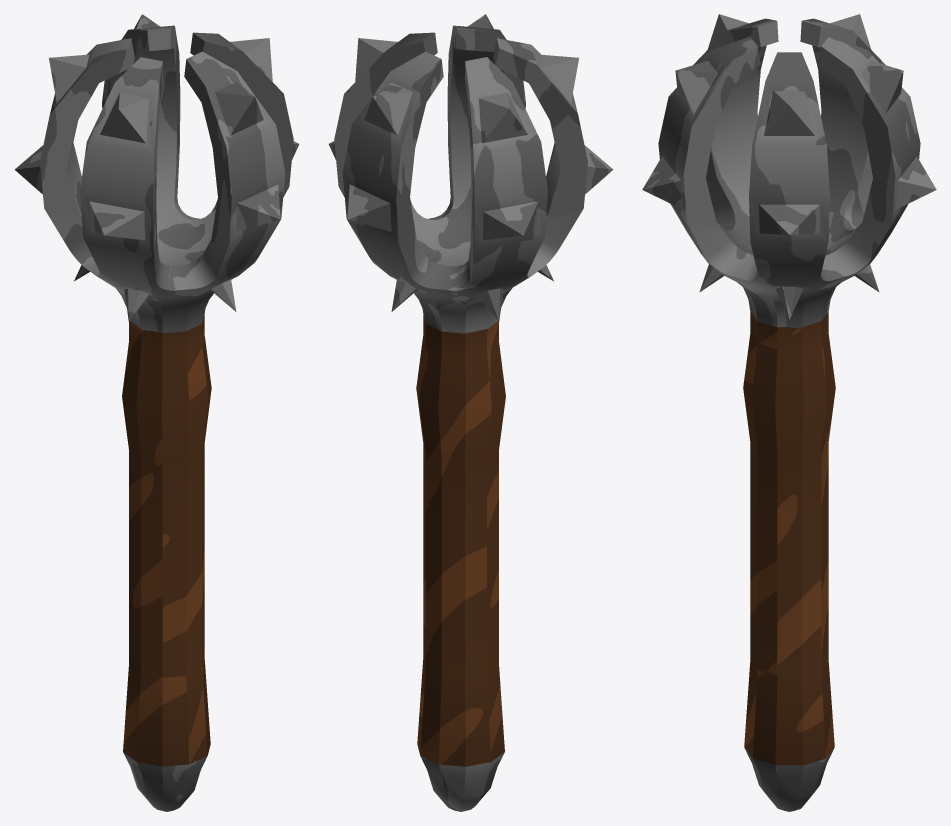
File: torch.fbx
3 renders of one model, left to right at view 1: azimuth 30°, elevation 25°; view 2: azimuth 150°, elevation 25°; view 3: azimuth 270°, elevation 25°, orthographic.
Parts seen in each view (by area): view 1: Cube; view 2: Cube; view 3: Cube.
Part boxes in pixels (bbox=[...]): Cube: bbox=[14, 14, 299, 811]; Cube: bbox=[328, 14, 613, 811]; Cube: bbox=[642, 14, 936, 811].
Bounding box in the file's own units: 494 × 1508 × 519.
Materials: 1 (1 with a texture image).
